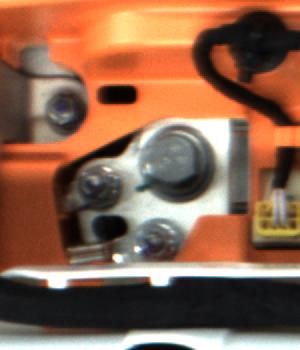nut_b: (129, 119, 220, 207)
screw_s: (75, 162, 117, 206), (135, 219, 178, 261), (40, 87, 80, 131)
